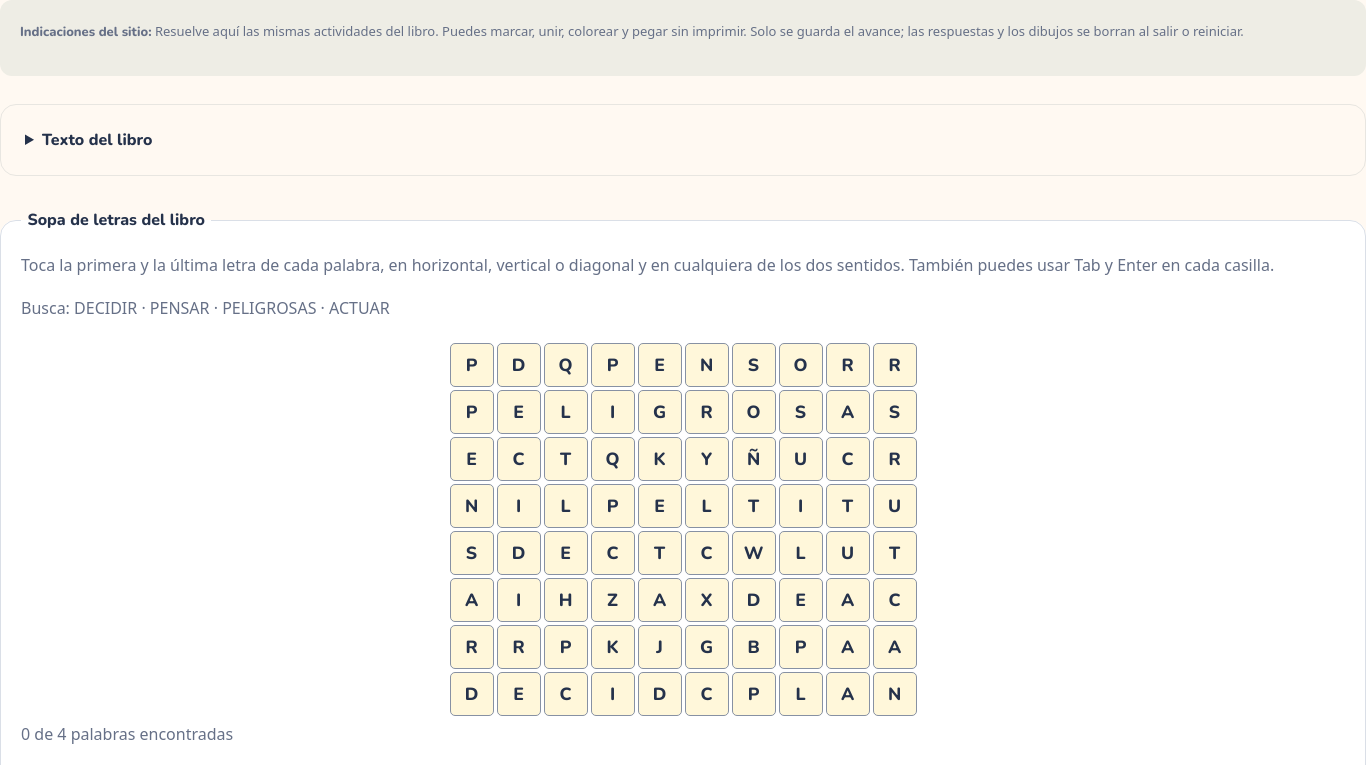
word search recognizes the printed ACTUAR diagonal and marks the selected cells
Click the 3rd button "A": (660, 600) [638, 578, 682, 622]
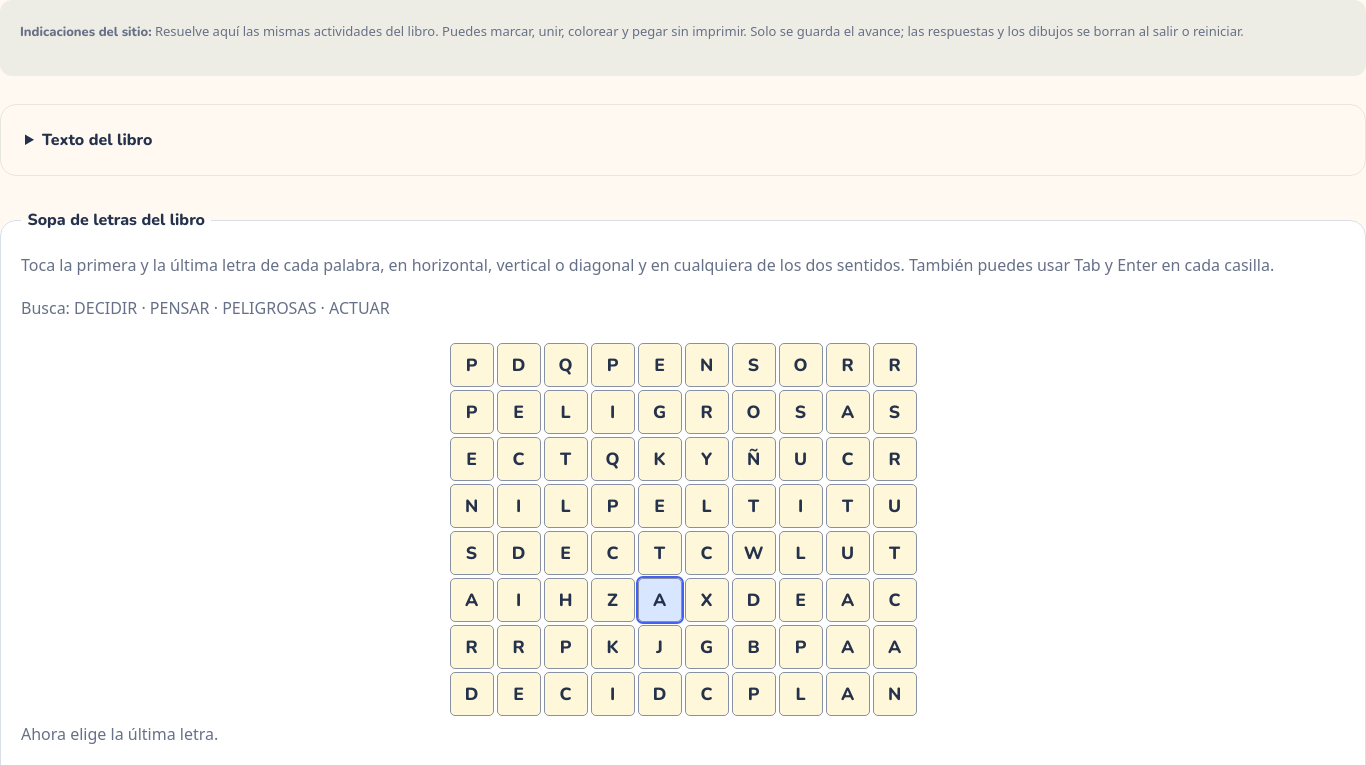
Click the 2nd button "R": (894, 366) [872, 344, 916, 388]
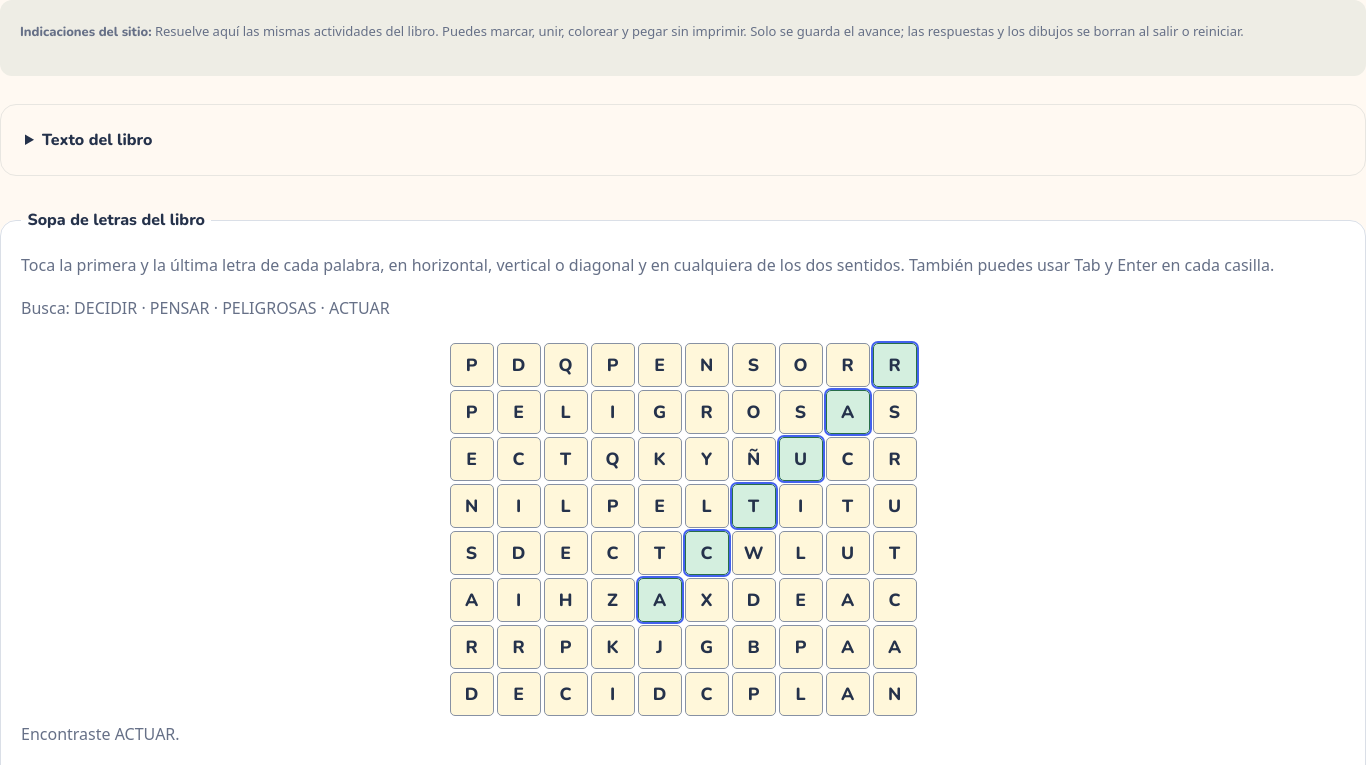
Result: the message reads "Encontraste ACTUAR." at [21, 724, 180, 746]
